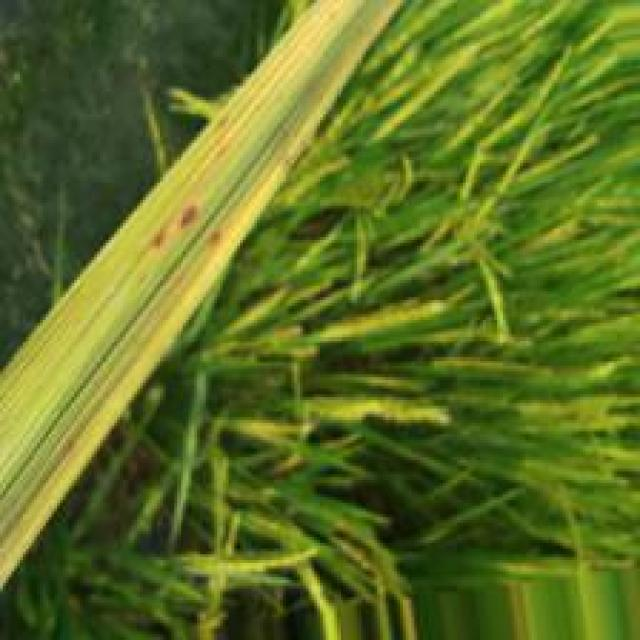Brown_Spot: (205, 230, 227, 248), (177, 205, 200, 222), (152, 230, 171, 248)
